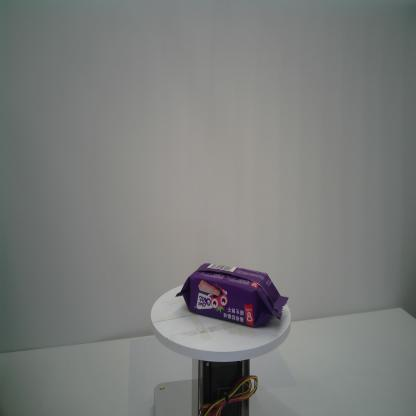Dessert: (175, 260, 291, 329)
